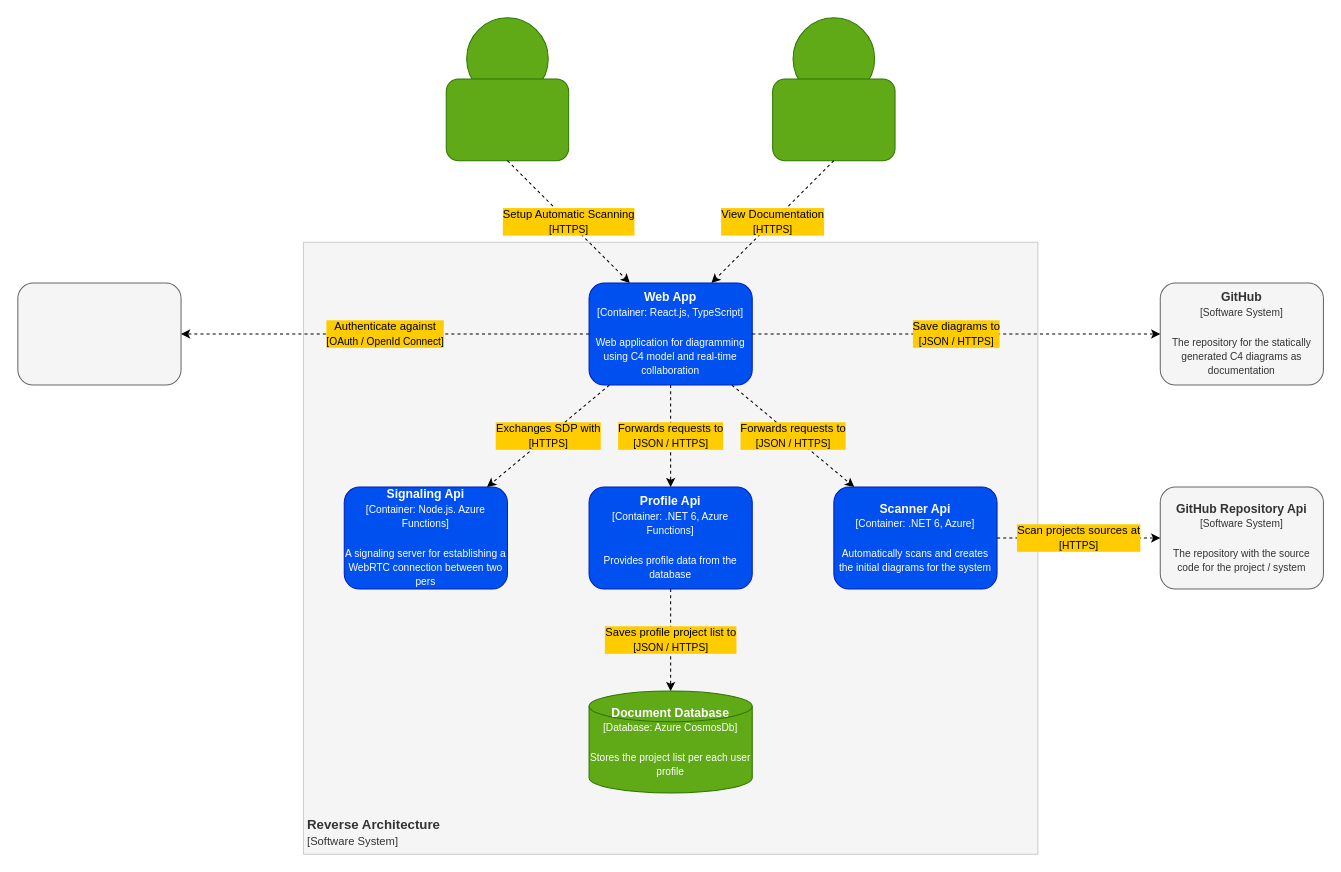
Image size: 1341x872. Some labels were removed from this diagram. Here are the shapes that lost their labels. From the top down, the centre of each, then its label:
At [507,119]: "Architect [Person] Description".
At [833,119]: "Developer [Person] Description".
At [99,333]: "GitHub Auth Api [Software System] Authentication provider to identify the user".
